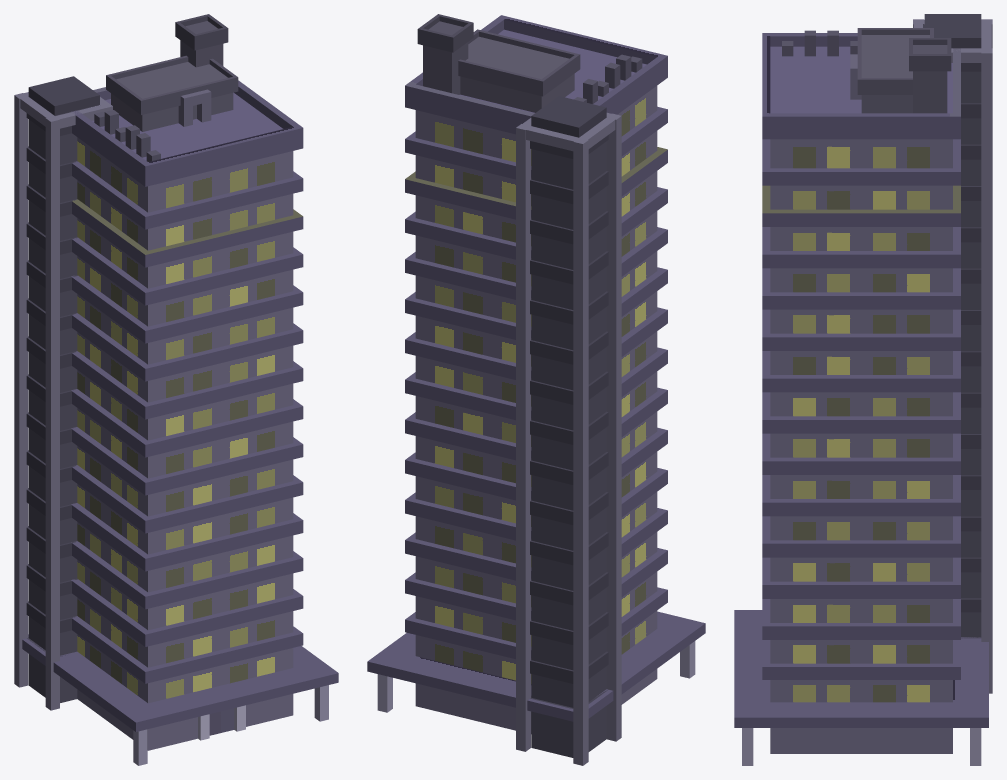
Rendered from skyscraper.gltf.
3 views of the same model, side by side, from view 1: azimuth 30°, elevation 25°; view 2: azimuth 150°, elevation 25°; view 3: azimuth 270°, elevation 25° (orthographic). The views are drawn at different scales.
Parts seen in each view (by area): view 1: cuboid (×2), second, pillar (×2), cube; view 2: cuboid (×2), second, pillar (×4), cube; view 3: cuboid (×2), second, pillar (×3), cube.
Part boxes in pixels (x1,y1,x2,y2): cuboid (×2): [22, 14, 338, 750]; second: [15, 76, 112, 702]; pillar (×2): [14, 93, 59, 710]; cube: [106, 55, 238, 131]; cuboid (×2): [367, 14, 705, 733]; second: [518, 96, 619, 757]; pillar (×4): [377, 113, 621, 765]; cube: [458, 29, 580, 112]; cuboid (×2): [734, 33, 988, 753]; second: [914, 14, 991, 638]; pillar (×3): [742, 48, 992, 765]; cube: [857, 28, 933, 113].
Bounding box in the file's own units: 1.42 × 4.22 × 1.42.
Materials: 1 (1 with a texture image).
